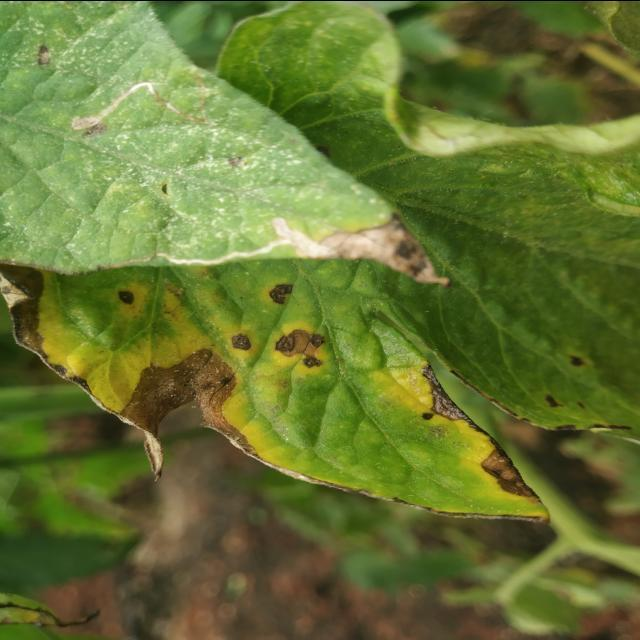Tomato mosaic virus leaf: (0, 265, 551, 527)
